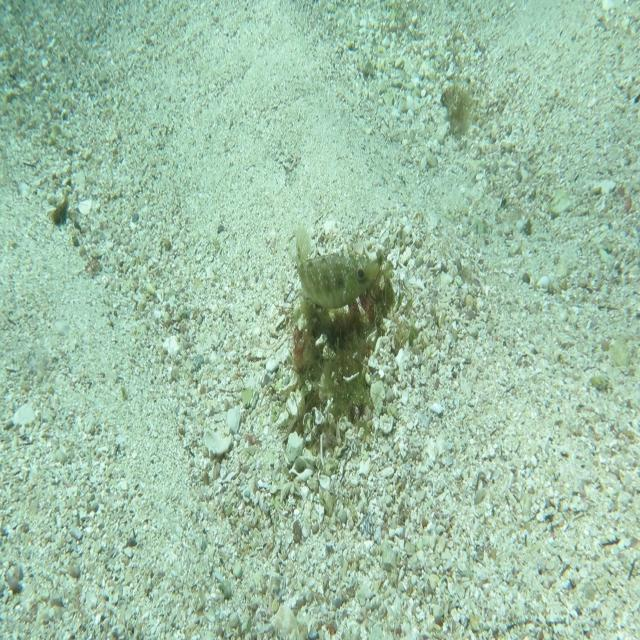FAN: (289, 216, 380, 312)
nest: (271, 228, 401, 436)
vegetation: (442, 74, 472, 141), (49, 194, 72, 226)
